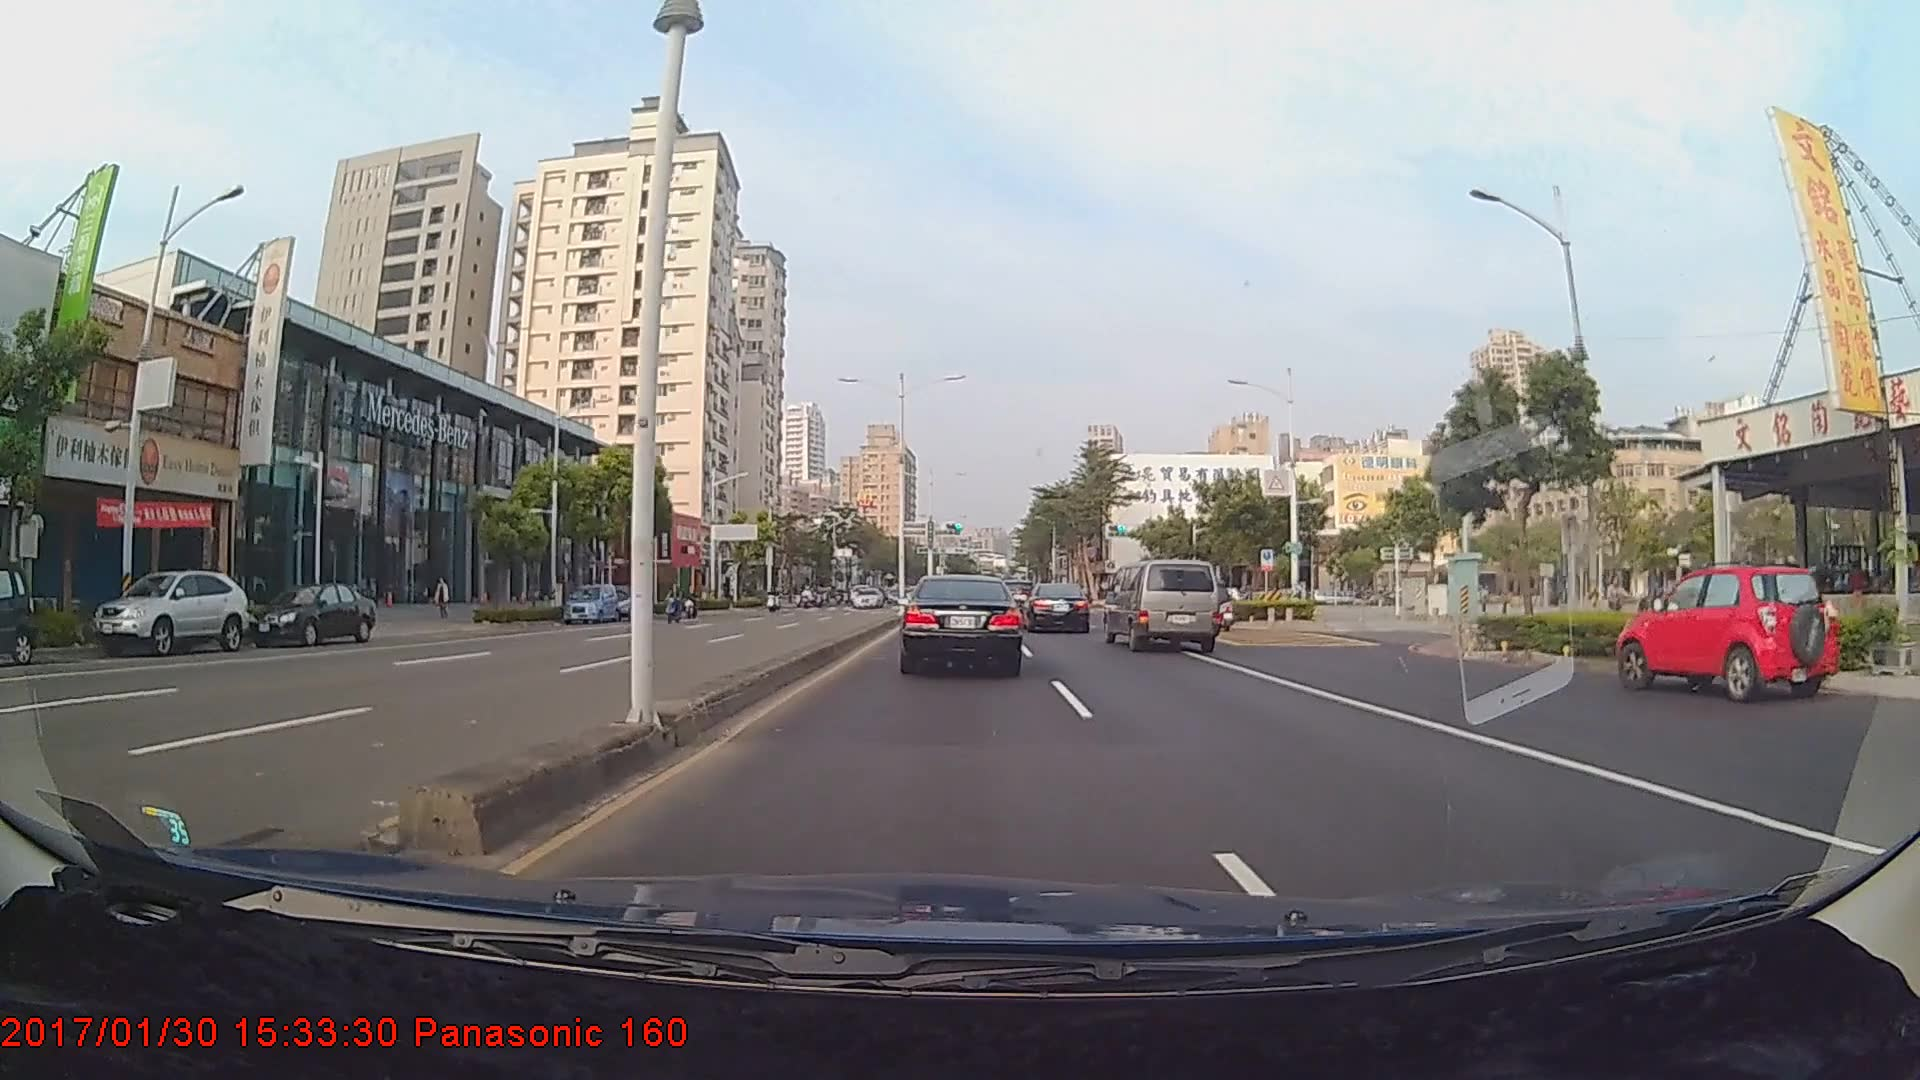pedestrian: (432, 576, 453, 622)
vehicle: (1619, 563, 1832, 702), (90, 565, 245, 654), (901, 572, 1022, 676), (1105, 558, 1219, 651), (246, 580, 378, 645), (0, 557, 42, 664), (1020, 582, 1091, 635), (561, 581, 619, 624), (853, 585, 884, 607)
